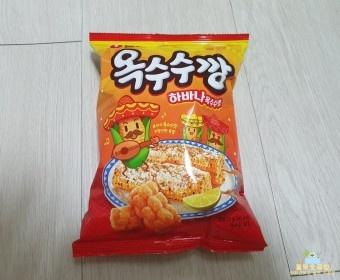snack: (72, 31, 268, 260)
